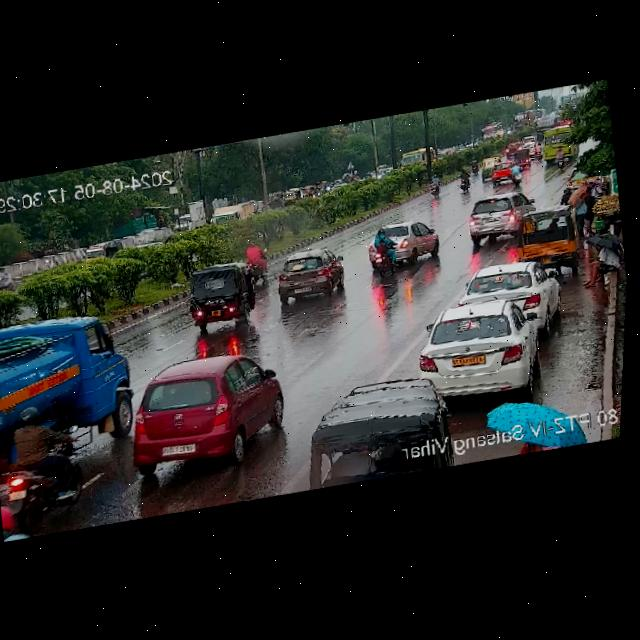bus: (540, 122, 580, 161), (397, 142, 434, 173), (478, 121, 506, 138)
car: (127, 342, 301, 477), (424, 296, 527, 392), (456, 257, 564, 339), (506, 202, 582, 278), (456, 186, 533, 251), (277, 240, 352, 305), (184, 262, 253, 332), (392, 212, 442, 267), (87, 242, 117, 263), (510, 150, 534, 173), (480, 157, 497, 176)
motorcycle: (0, 399, 94, 533), (361, 225, 400, 275), (247, 240, 269, 287), (426, 174, 445, 201), (0, 264, 20, 288), (551, 146, 568, 174), (457, 167, 472, 196), (509, 163, 524, 184)
person: (577, 228, 627, 286), (567, 185, 602, 230)
truck: (0, 304, 142, 451), (213, 196, 263, 223)
